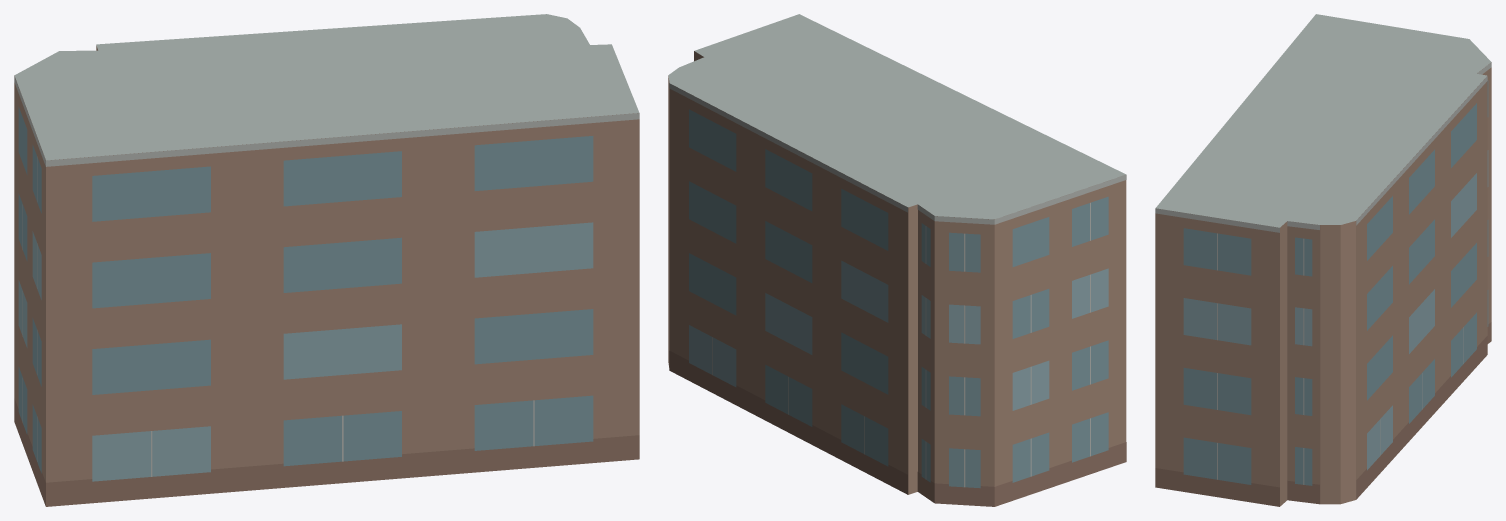
The model's file is survey-upis-32847585.glb.
3 views of the same model, side by side, from view 1: azimuth 30°, elevation 25°; view 2: azimuth 150°, elevation 25°; view 3: azimuth 270°, elevation 25° (orthographic). The views are drawn at different scales.
Visible parts, largest first — view 1: survey-upis-32847585.tmp; view 2: survey-upis-32847585.tmp; view 3: survey-upis-32847585.tmp.
Boxes of the visible parts, <box> form: survey-upis-32847585.tmp: <box>14,14,639,506</box>; survey-upis-32847585.tmp: <box>668,14,1126,506</box>; survey-upis-32847585.tmp: <box>1155,14,1491,506</box>.
Size of the model in its own units: 21.68 by 13.2 by 14.41.
